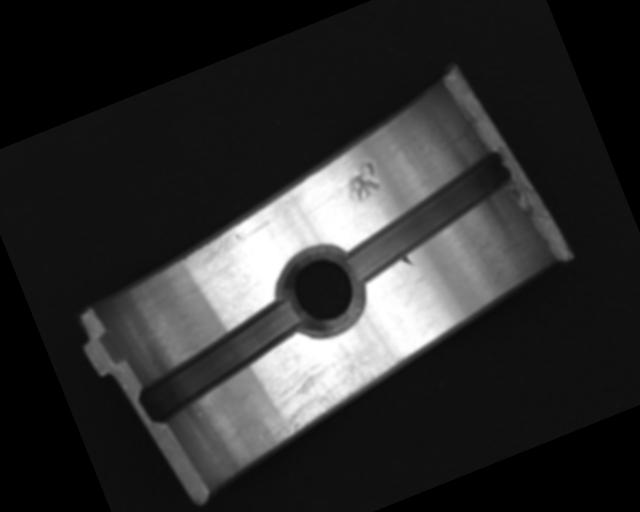bruise: (339, 157, 386, 204), (399, 252, 416, 270)
gap: (330, 150, 530, 285), (123, 294, 315, 426)
hole: (267, 236, 376, 347)
scratch: (236, 321, 416, 454)
